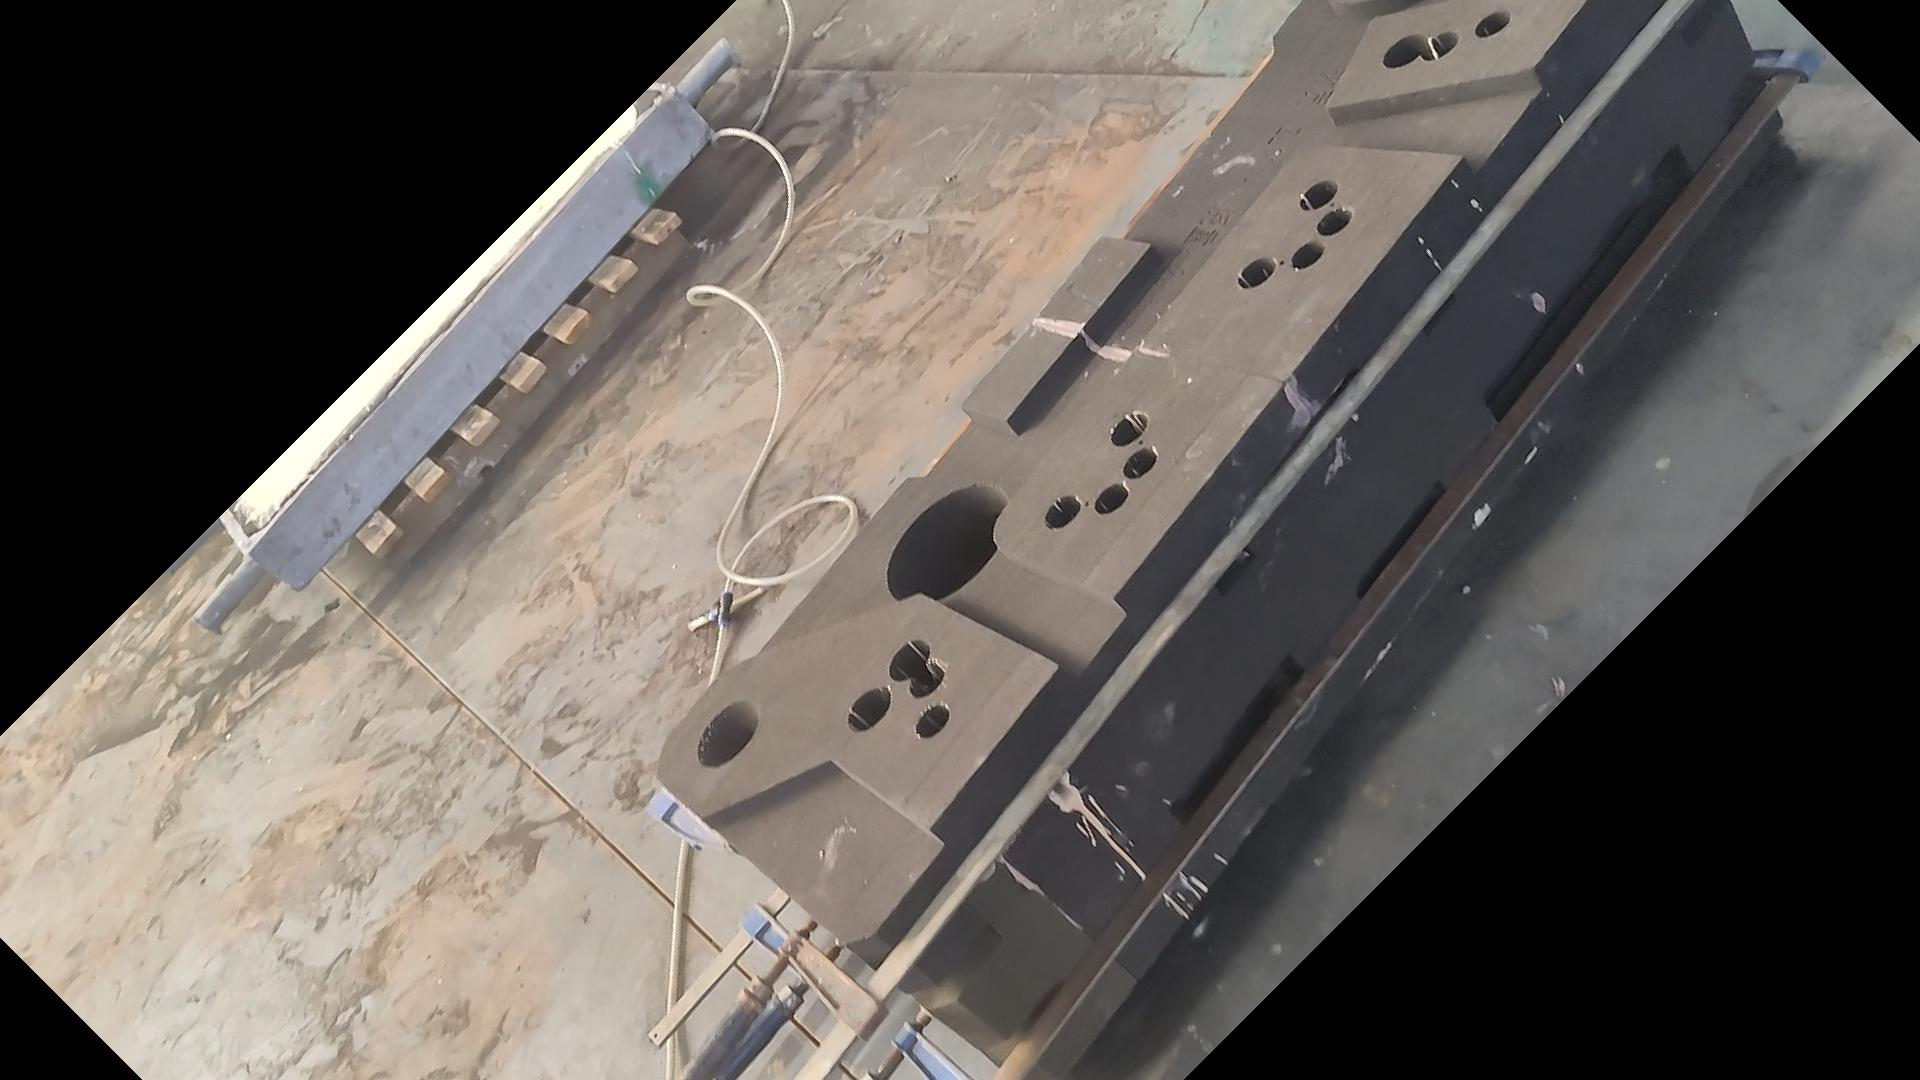pouring hole: (884, 483, 1010, 603), (695, 696, 761, 769)
